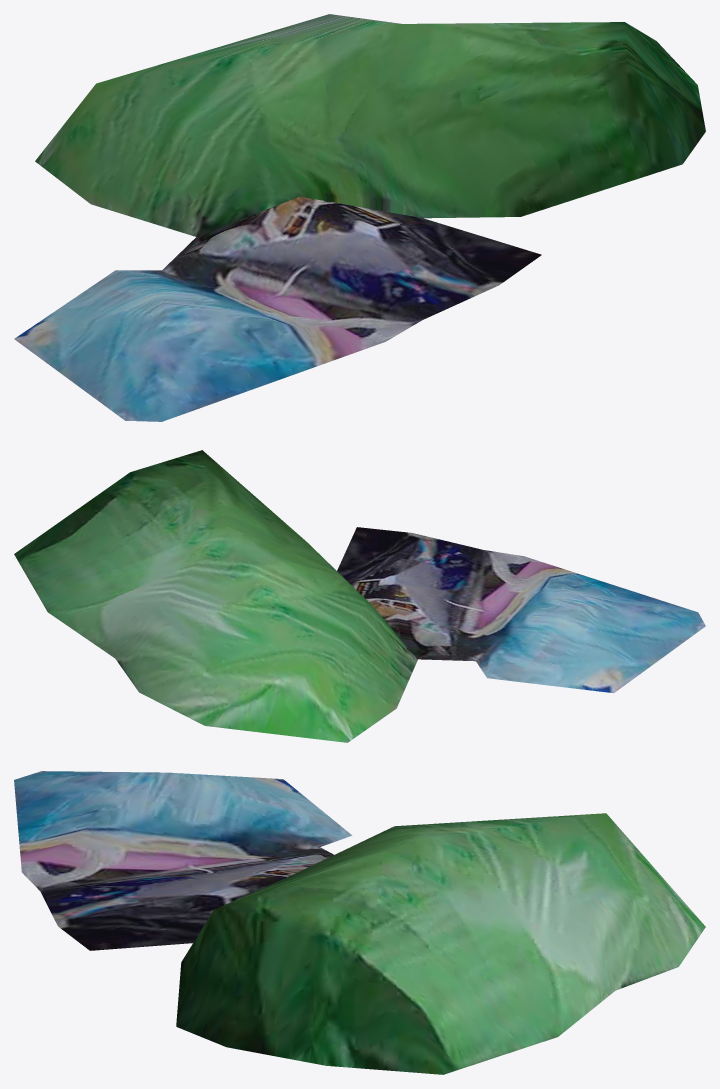
Rendered from Garbage1B_LOD1.fbx.
The picture shows the model from 3 angles, top to bottom: view 1: azimuth 30°, elevation 25°; view 2: azimuth 150°, elevation 25°; view 3: azimuth 270°, elevation 25°; orthographic projection. The views are drawn at different scales.
Parts seen in each view (by area): view 1: polySurface857; view 2: polySurface857; view 3: polySurface857.
Boxes of the visible parts, <box> form: polySurface857: <box>14,14,705,421</box>; polySurface857: <box>14,450,705,742</box>; polySurface857: <box>14,771,705,1074</box>.
Size of the model in its own units: 1.45 by 0.303 by 1.16.
